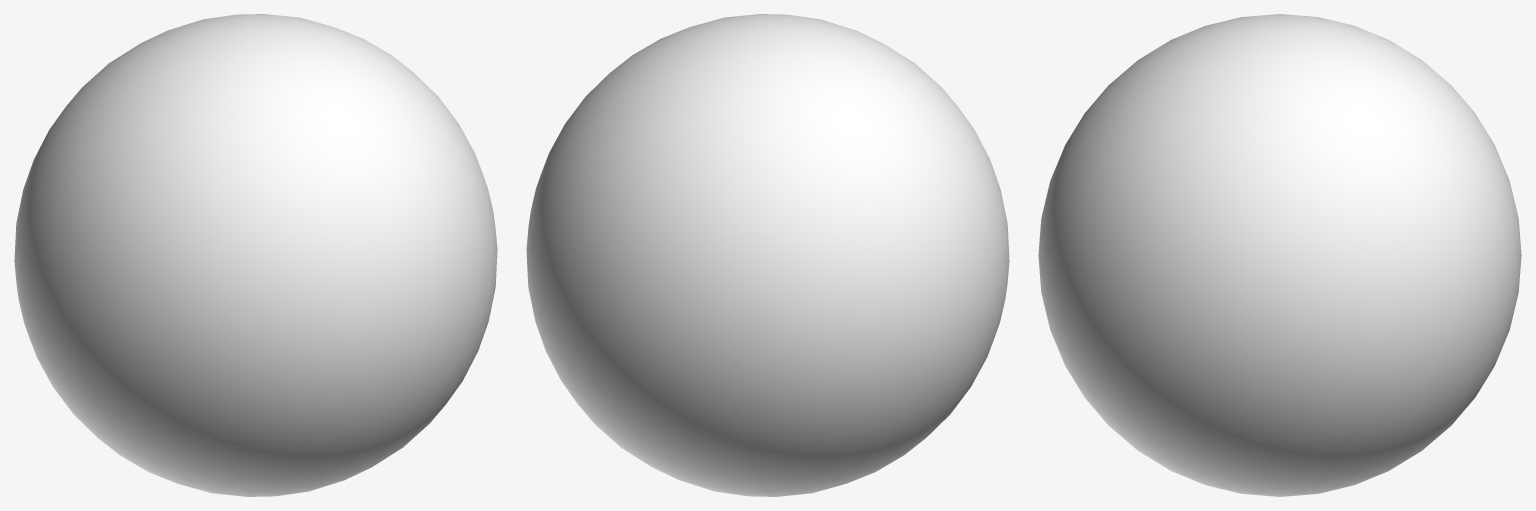
File: dot.obj
The picture shows the model from 3 angles, left to right: view 1: azimuth 30°, elevation 25°; view 2: azimuth 150°, elevation 25°; view 3: azimuth 270°, elevation 25°; orthographic projection.
Visible parts, largest first — view 1: Icosphere; view 2: Icosphere; view 3: Icosphere.
Boxes of the visible parts, x1,y1,x2,y2 form: Icosphere: (14,14,497,496); Icosphere: (526,14,1009,496); Icosphere: (1038,14,1521,496).
Bounding box in the file's own units: 2 × 2 × 2.
1 material, 1 textured.
